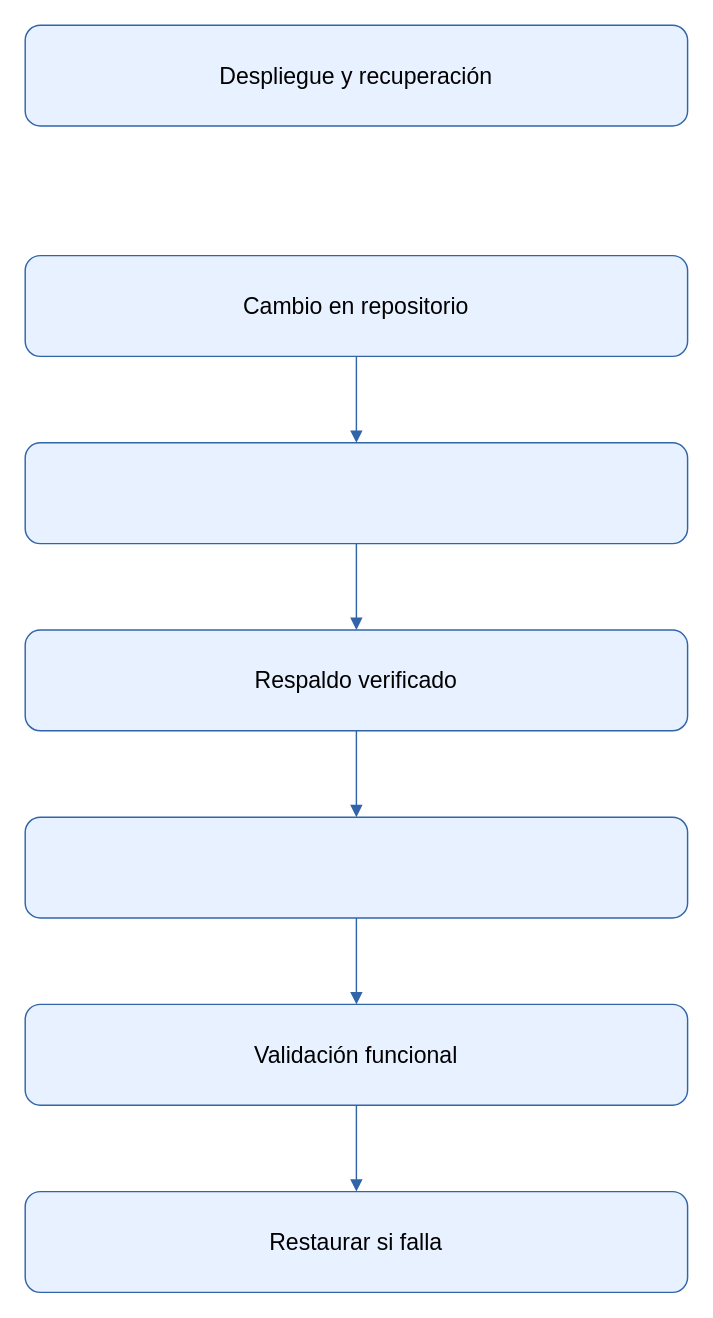
This 713x1318 diagram has some shape labels left out. Each missing label, with the box of its shape:
Despliegue Coolify: (24, 816, 688, 918)
Prueba aislada: (24, 441, 688, 544)
